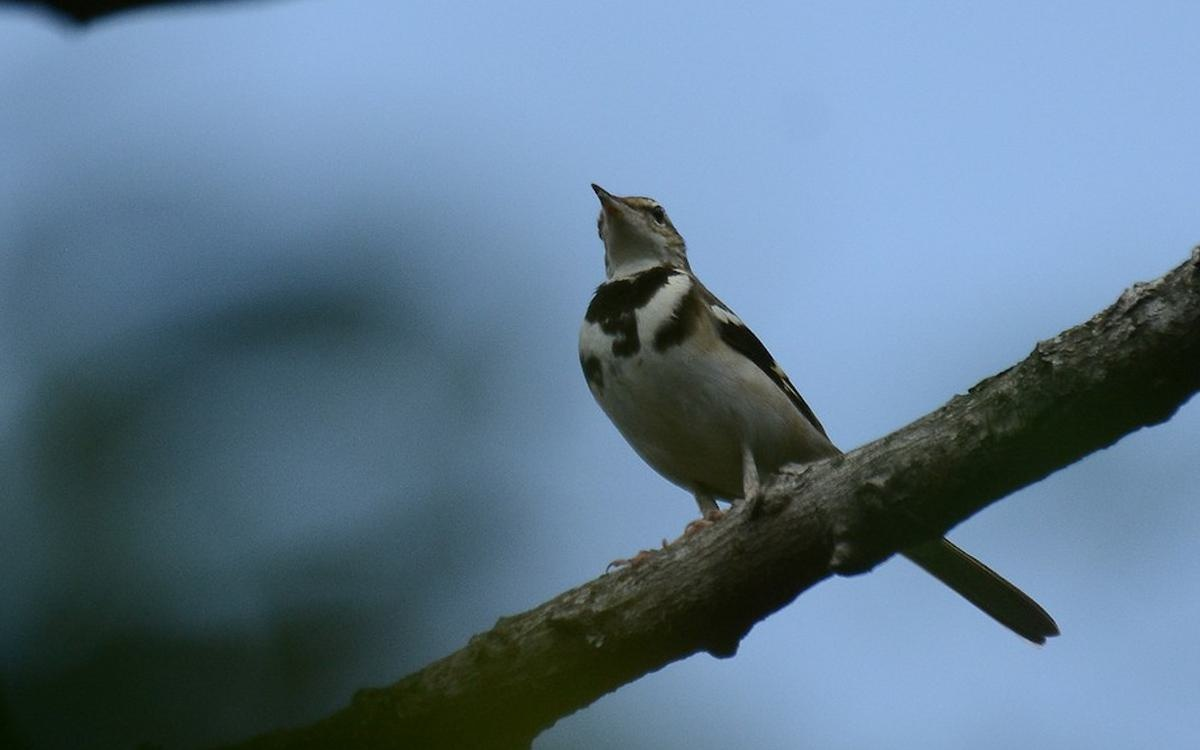wagtail: (561, 153, 1019, 599)
